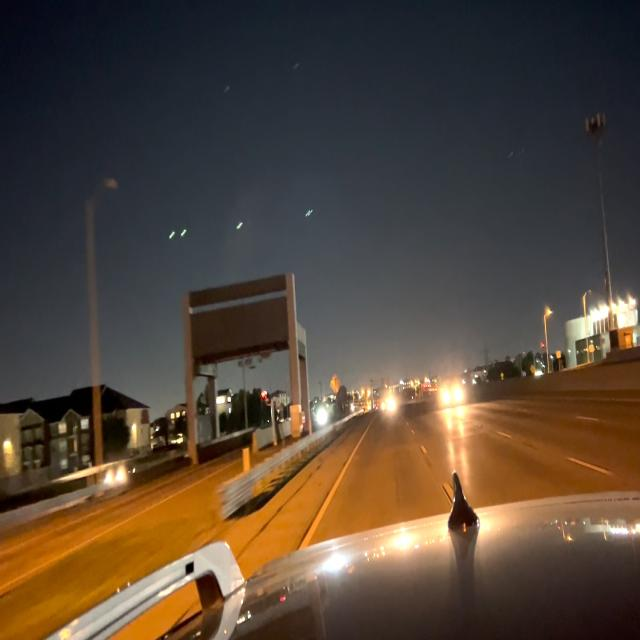back-of-sign: (330, 373, 341, 395)
